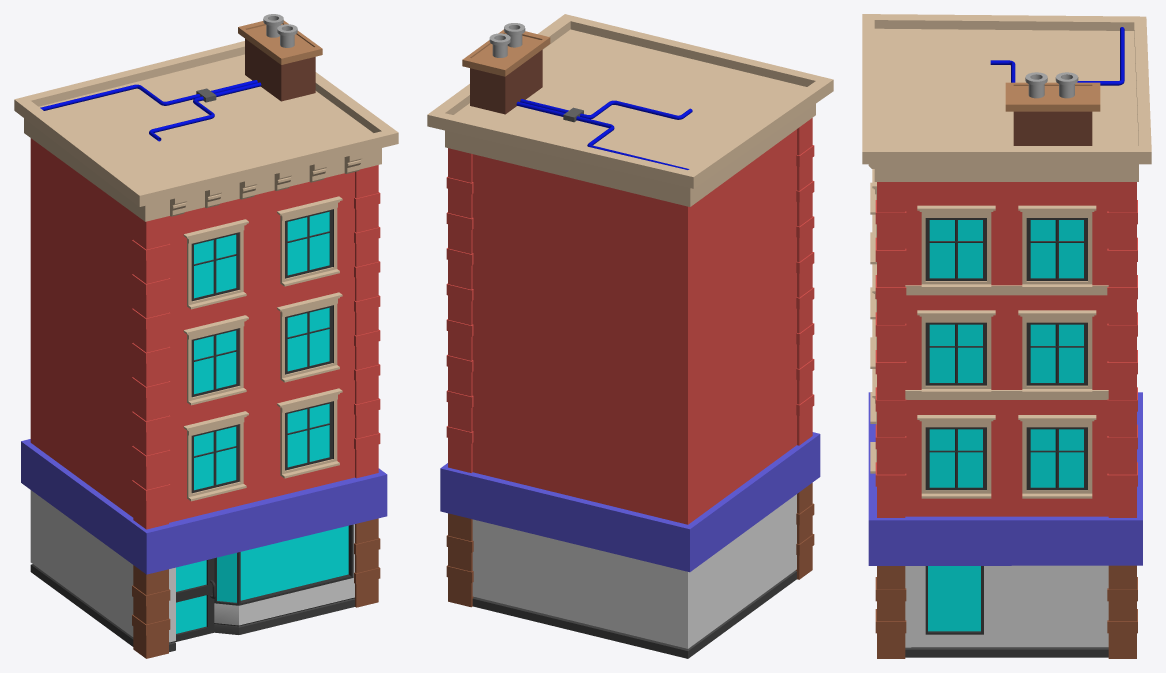
File: building_10.fbx
3 renders of one model, left to right at view 1: azimuth 30°, elevation 25°; view 2: azimuth 150°, elevation 25°; view 3: azimuth 270°, elevation 25°, orthographic. The views are drawn at different scales.
Visible parts, largest first — view 1: Cube.169; view 2: Cube.169; view 3: Cube.169.
Boxes of the visible parts, x1,y1,x2,y2 form: Cube.169: (14, 14, 398, 658); Cube.169: (427, 14, 833, 658); Cube.169: (862, 14, 1151, 658).
Bounding box in the file's own units: 1003 × 1941 × 890.
